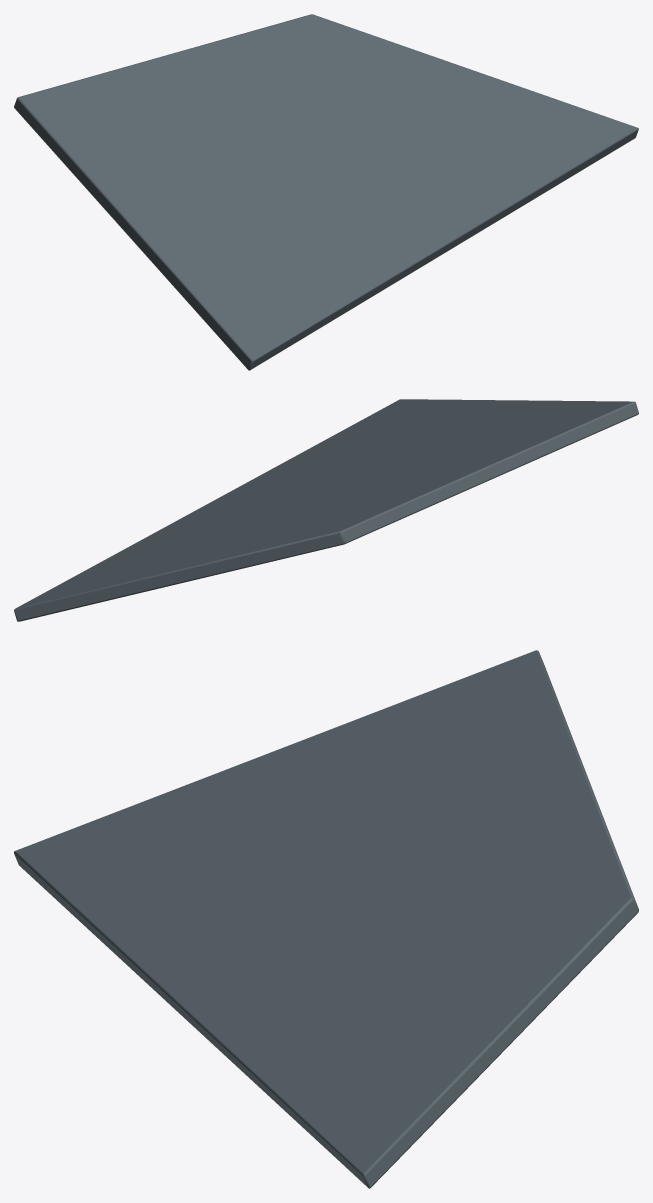
The picture shows the model from 3 angles, top to bottom: view 1: azimuth 30°, elevation 25°; view 2: azimuth 210°, elevation 25°; view 3: azimuth 270°, elevation 25°; orthographic projection. The views are drawn at different scales.
Visible parts, largest first — view 1: Cube.007; view 2: Cube.007; view 3: Cube.007.
Boxes of the visible parts, bbox=[...] form: Cube.007: bbox=[14, 14, 638, 370]; Cube.007: bbox=[14, 399, 638, 621]; Cube.007: bbox=[14, 650, 638, 1188].
Bounding box in the file's own units: 2.72 × 0.6588 × 1.96.
1 material, 1 textured.
